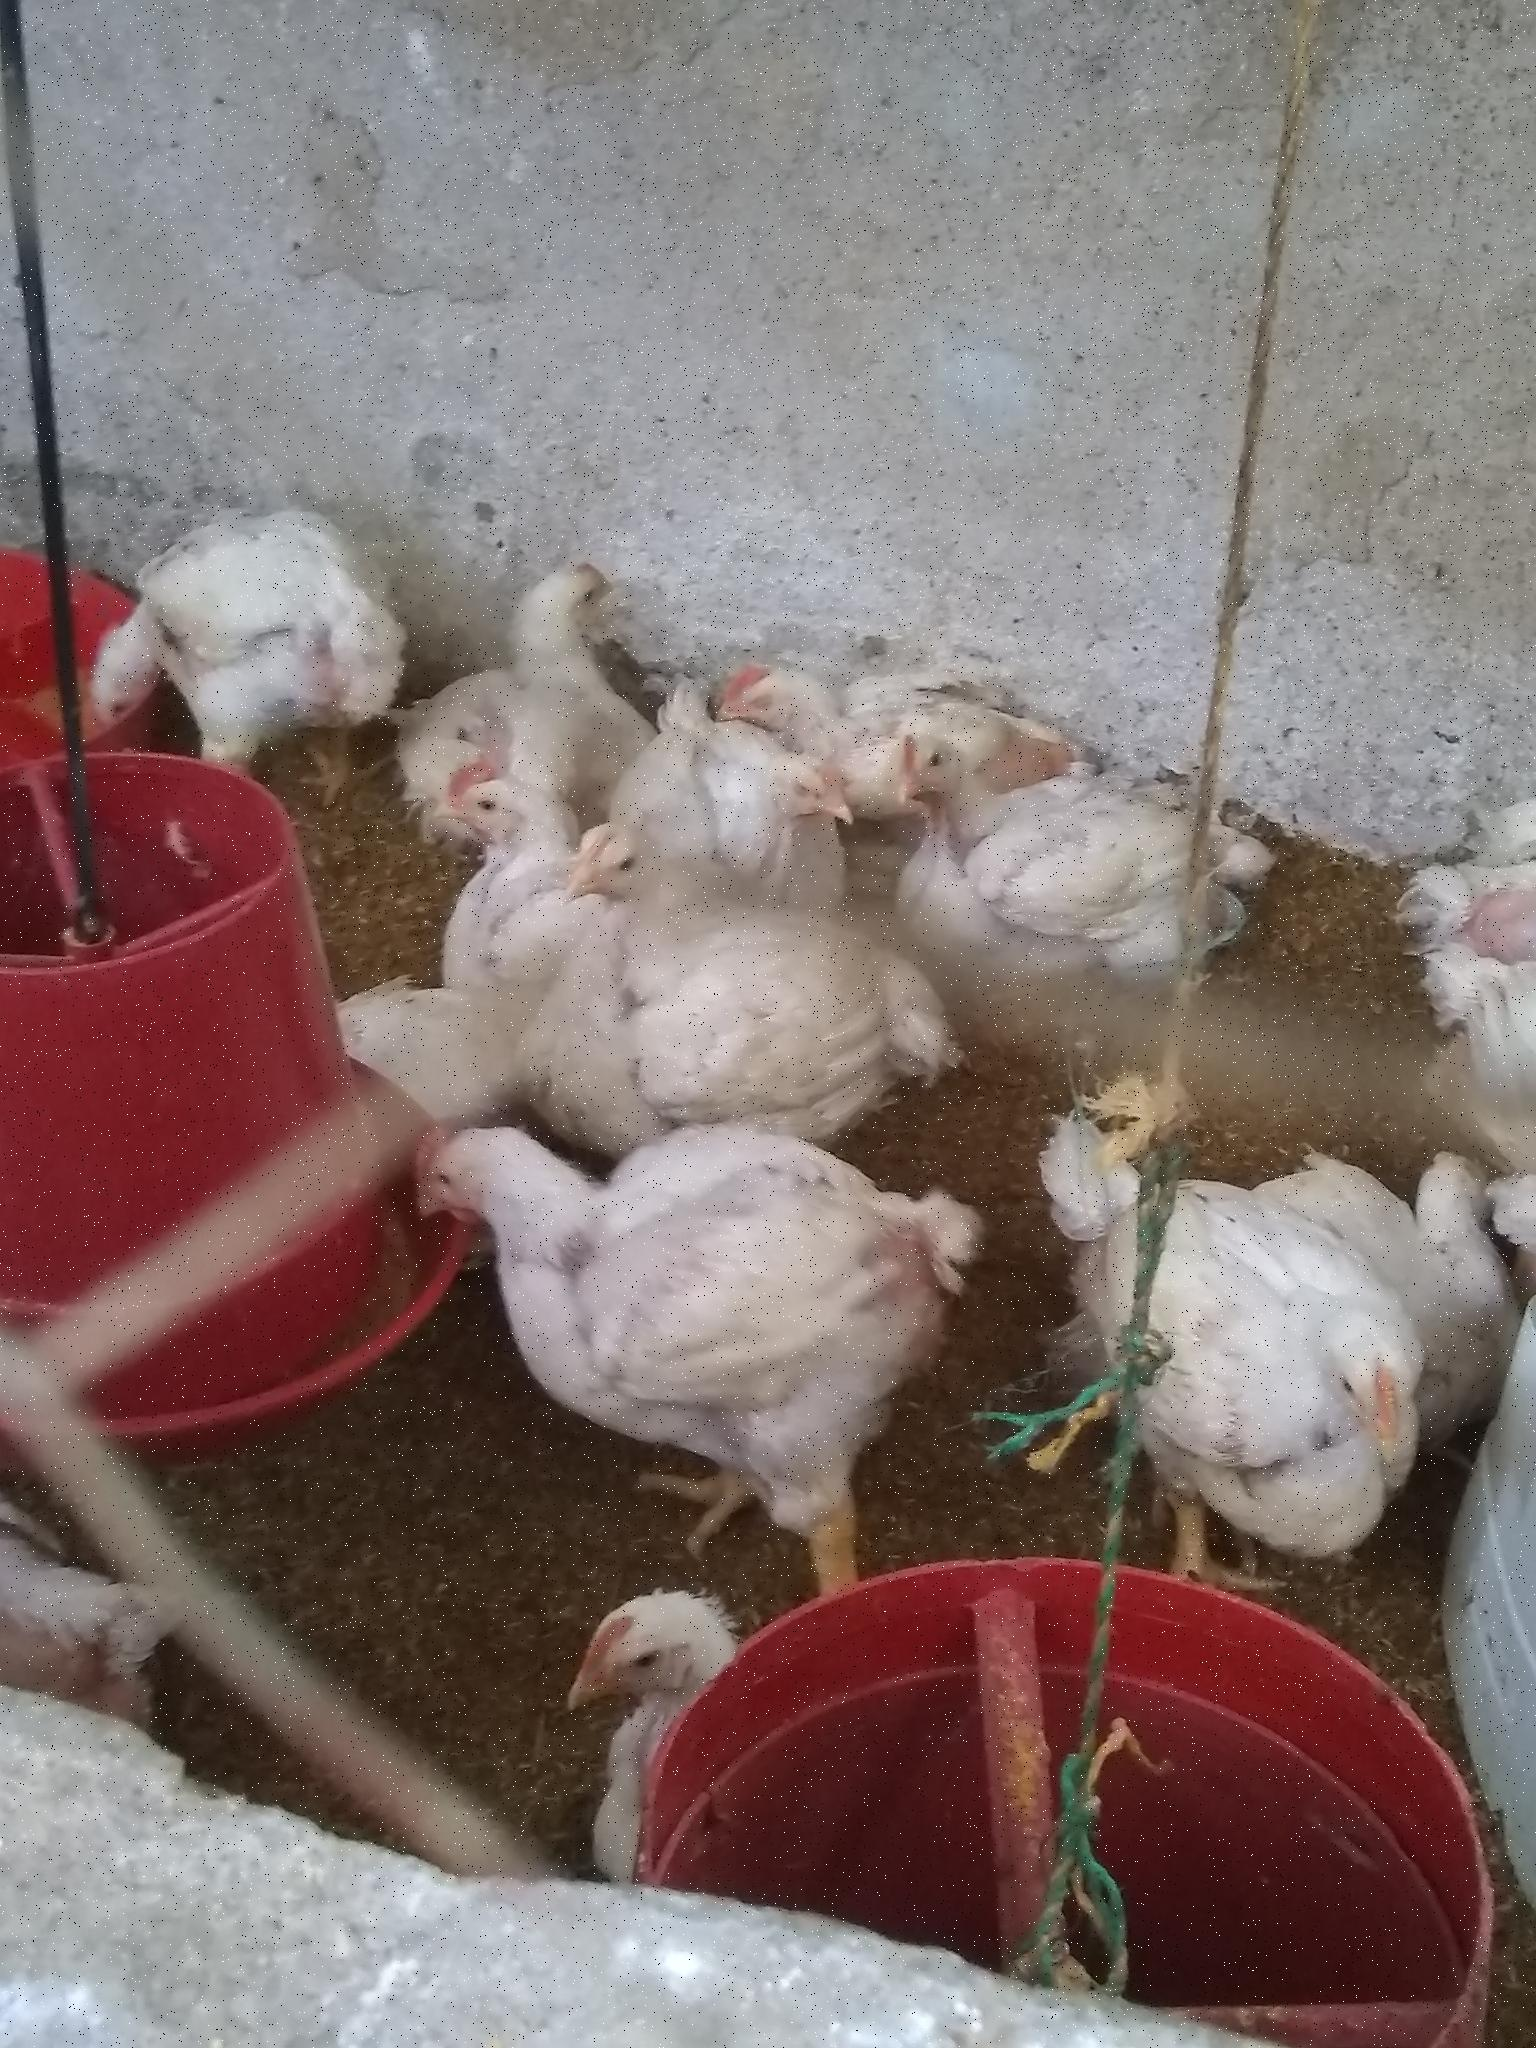Pollos: (399, 1119, 992, 1555), (1039, 1111, 1423, 1558), (891, 714, 1263, 1014), (586, 819, 912, 1119), (89, 495, 369, 798), (561, 1572, 771, 1824), (305, 934, 516, 1127), (1394, 834, 1536, 1101), (1276, 1142, 1496, 1295), (452, 750, 563, 955), (715, 629, 887, 755), (487, 552, 620, 669)
